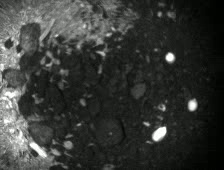corn: (149, 125, 169, 144), (186, 96, 200, 114), (164, 51, 177, 65)
